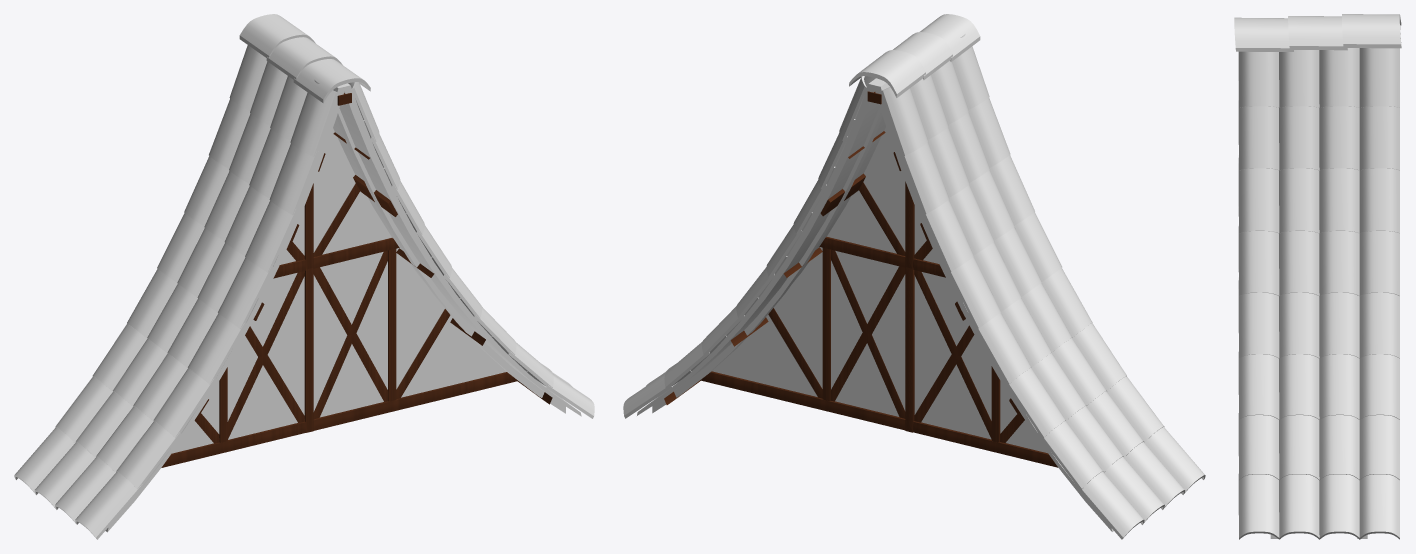
Rendered from S_Roof_Frame_Wood.fbx.
3 views of the same model, side by side, from view 1: azimuth 30°, elevation 25°; view 2: azimuth 150°, elevation 25°; view 3: azimuth 270°, elevation 25° (orthographic).
Visible parts, largest first — view 1: Cube.011, S_Roof_Frame_Wood, Cube.020, Cube.016; view 2: Cube.011, S_Roof_Frame_Wood, Cube.020, Cube.016; view 3: Cube.011.
Boxes of the visible parts, x1=… form: Cube.011: x1=14, y1=14, x2=594, y2=539; S_Roof_Frame_Wood: x1=105, y1=83, x2=581, y2=532; Cube.020: x1=161, y1=183, x2=517, y2=467; Cube.016: x1=198, y1=93, x2=552, y2=414; Cube.011: x1=623, y1=14, x2=1205, y2=539; S_Roof_Frame_Wood: x1=637, y1=78, x2=1113, y2=531; Cube.020: x1=700, y1=181, x2=1057, y2=467; Cube.016: x1=664, y1=91, x2=1020, y2=415; Cube.011: x1=1234, y1=14, x2=1401, y2=539.
Bounding box in the file's own units: 767 × 590 × 220.
